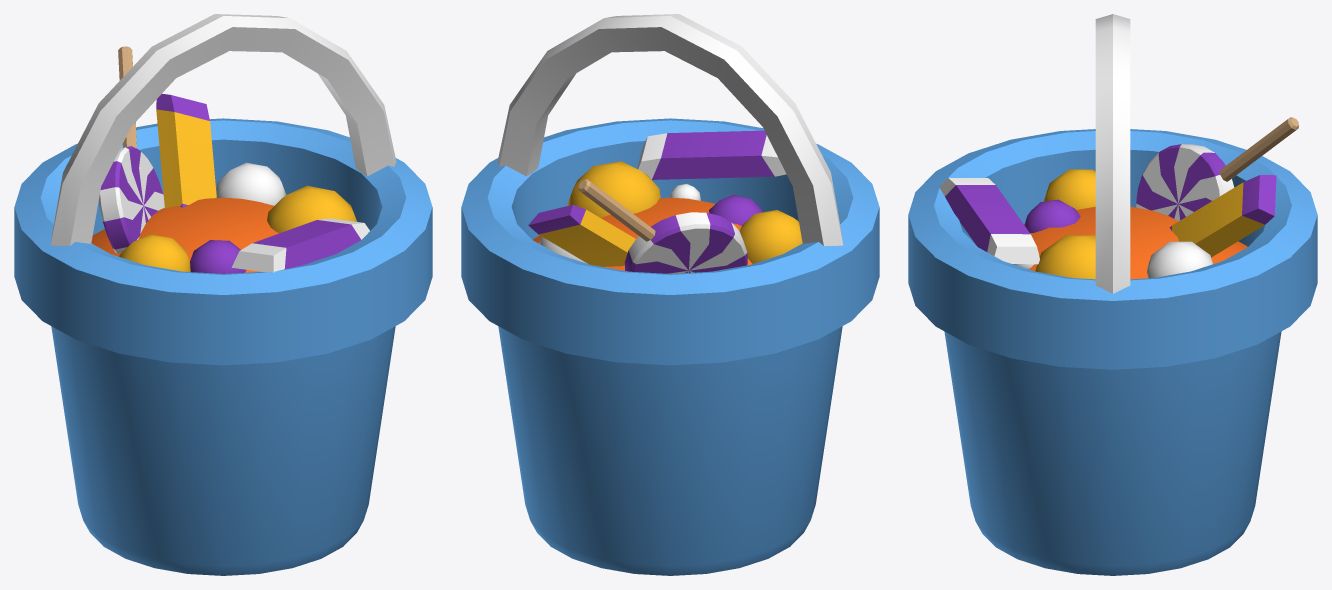
File: candyBucket.glb
3 views of the same model, side by side, from view 1: azimuth 30°, elevation 25°; view 2: azimuth 150°, elevation 25°; view 3: azimuth 270°, elevation 25° (orthographic). The views are drawn at different scales.
Visible parts, largest first — view 1: candyBucket; view 2: candyBucket; view 3: candyBucket.
Boxes of the visible parts, bbox=[...] form: candyBucket: bbox=[14, 14, 432, 575]; candyBucket: bbox=[461, 14, 879, 575]; candyBucket: bbox=[908, 14, 1317, 575].
Size of the model in its own units: 0.3559 by 0.4763 by 0.3559.
